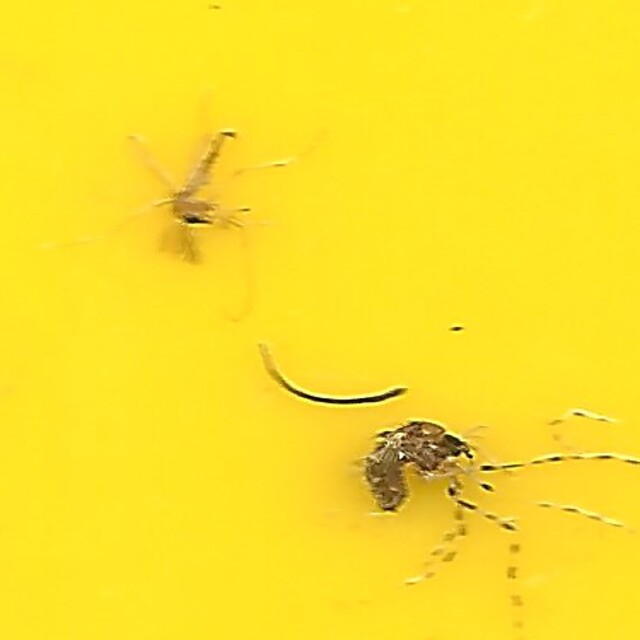Nematocera: (364, 417, 469, 513), (171, 127, 241, 228)
